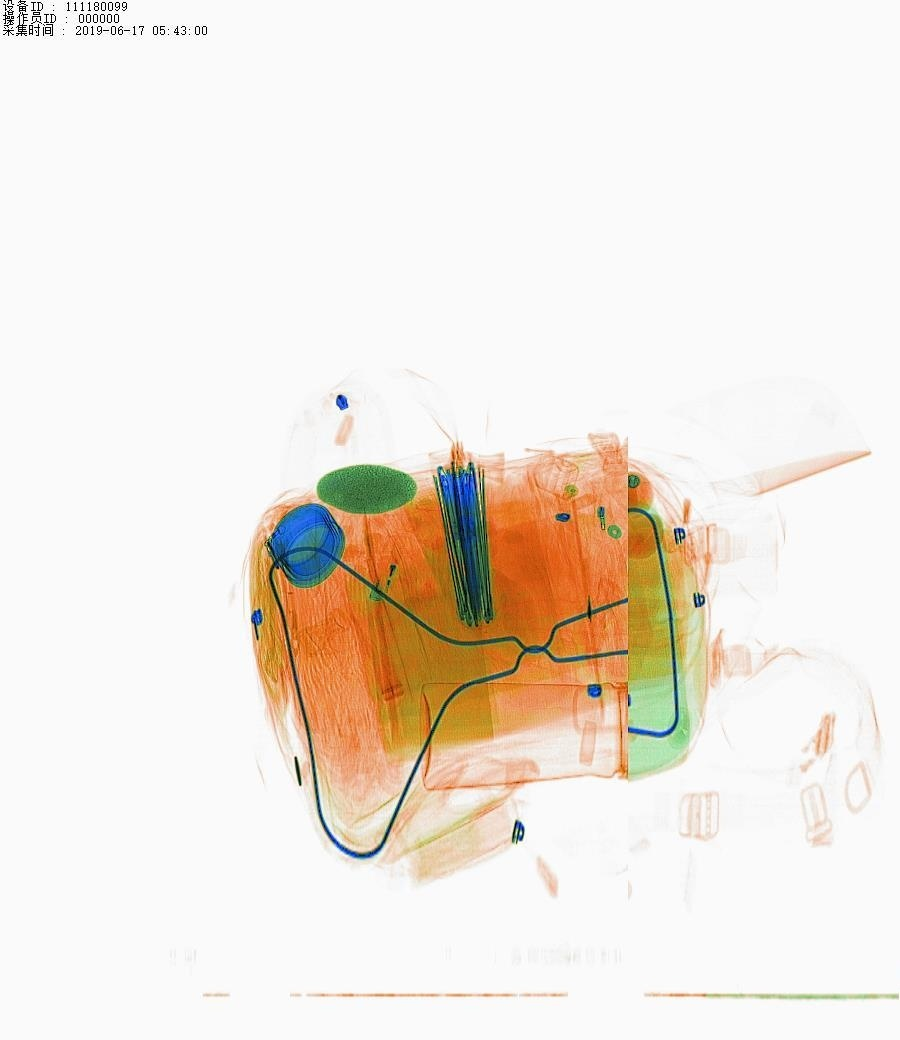NonmetallicFire: (354, 521, 412, 622)
